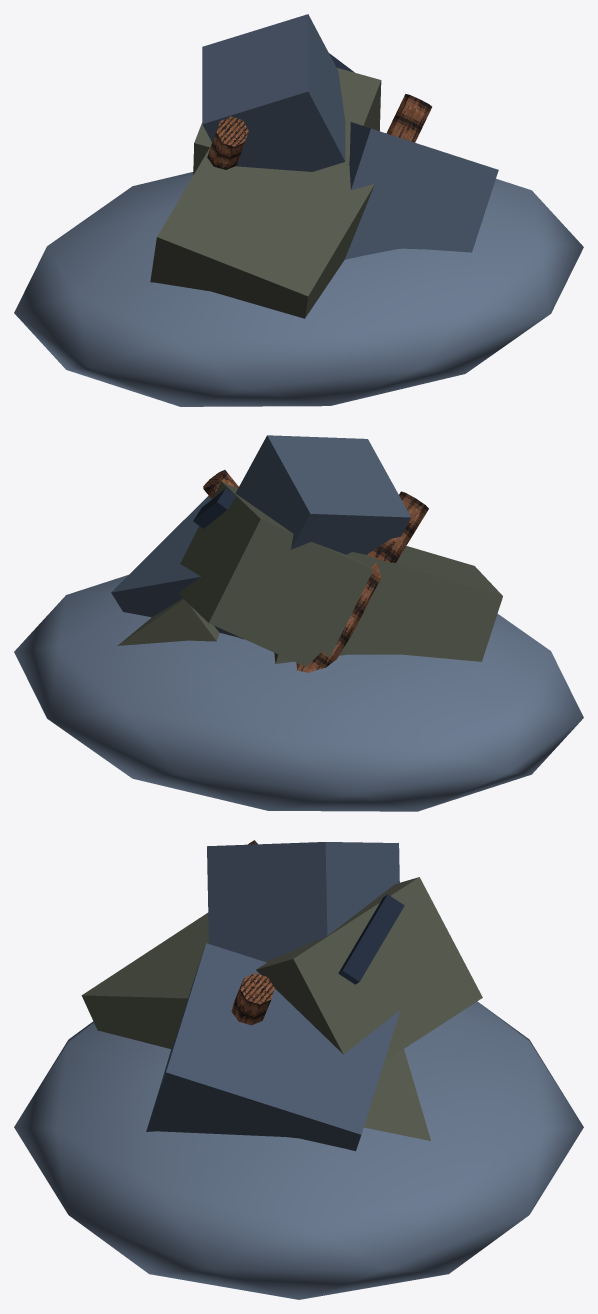
File: derrumbe_rocas.glb
The picture shows the model from 3 angles, top to bottom: view 1: azimuth 30°, elevation 25°; view 2: azimuth 150°, elevation 25°; view 3: azimuth 270°, elevation 25°; orthographic projection. The views are drawn at different scales.
Parts seen in each view (by area): view 1: Icosphere, Cube, Cube.003, Cube.001, Cube.002, Cylinder, Cylinder.001; view 2: Icosphere, Cube.002, Cube.003, Cube, Cube.001, Cylinder, Cube.004, Cube.005; view 3: Icosphere, Cube.001, Cube.002, Cube.003, Cube, Cube.004, Cube.005, Cylinder.001.
Part boxes in pixels (bbox=[...]): Icosphere: bbox=[14, 172, 583, 406]; Cube: bbox=[150, 146, 374, 318]; Cube.003: bbox=[202, 14, 345, 171]; Cube.001: bbox=[345, 122, 498, 259]; Cube.002: bbox=[193, 68, 381, 174]; Cylinder: bbox=[207, 116, 248, 169]; Cylinder.001: bbox=[386, 94, 431, 142]; Icosphere: bbox=[14, 574, 583, 811]; Cube.002: bbox=[178, 481, 373, 666]; Cube.003: bbox=[235, 435, 411, 554]; Cube: bbox=[274, 546, 502, 663]; Cube.001: bbox=[111, 495, 243, 639]; Cylinder: bbox=[296, 491, 428, 672]; Cube.004: bbox=[117, 598, 219, 645]; Cube.005: bbox=[193, 488, 236, 528]; Icosphere: bbox=[14, 1001, 583, 1299]; Cube.001: bbox=[146, 943, 399, 1151]; Cube.002: bbox=[256, 877, 482, 1061]; Cube.003: bbox=[207, 842, 399, 960]; Cube: bbox=[81, 912, 208, 1048]; Cube.004: bbox=[364, 1048, 430, 1140]; Cube.005: bbox=[338, 894, 404, 984]; Cylinder.001: bbox=[231, 973, 274, 1025].
Bounding box in the file's own units: 2.59 × 1.64 × 2.2.
Materials: 6 (1 with a texture image).
